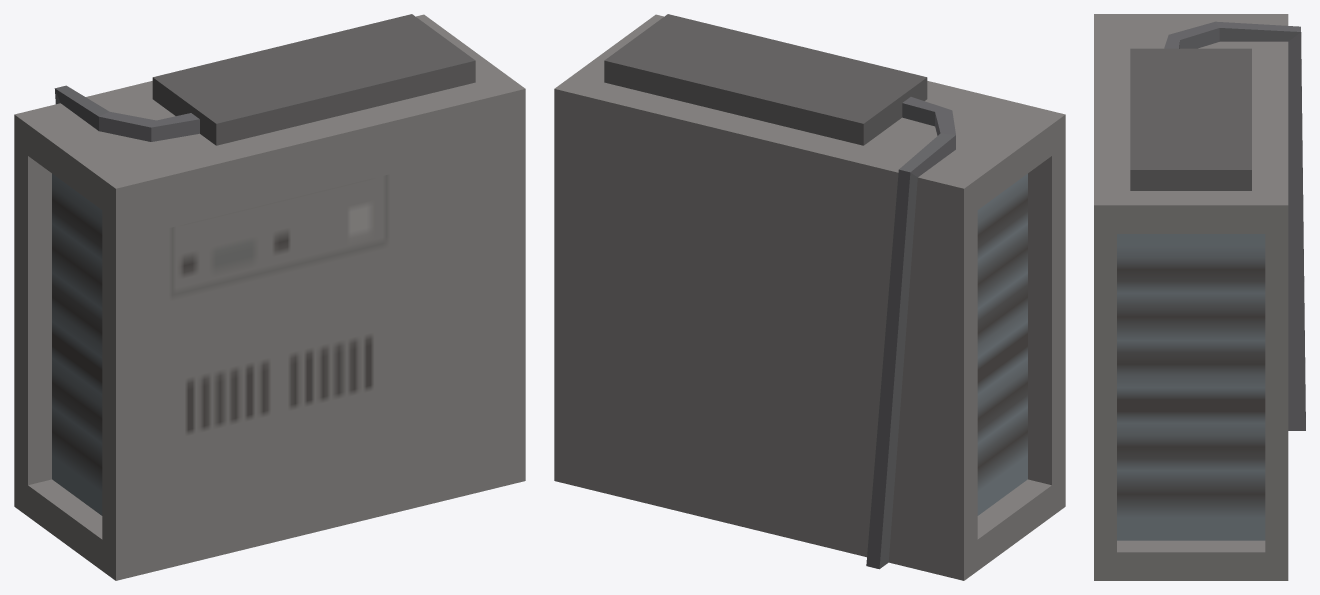
File: SM_Prop_Aircon_02.fbx
The picture shows the model from 3 angles, left to right: view 1: azimuth 30°, elevation 25°; view 2: azimuth 150°, elevation 25°; view 3: azimuth 270°, elevation 25°; orthographic projection. The views are drawn at different scales.
Parts seen in each view (by area): view 1: SM_Prop_Aircon_02; view 2: SM_Prop_Aircon_02; view 3: SM_Prop_Aircon_02.
Part boxes in pixels (<box>): SM_Prop_Aircon_02: <box>14,14,525,580</box>; SM_Prop_Aircon_02: <box>554,14,1065,580</box>; SM_Prop_Aircon_02: <box>1094,14,1305,580</box>.
Size of the model in its own units: 82.29 by 79.47 by 38.5.
1 material, 1 textured.
